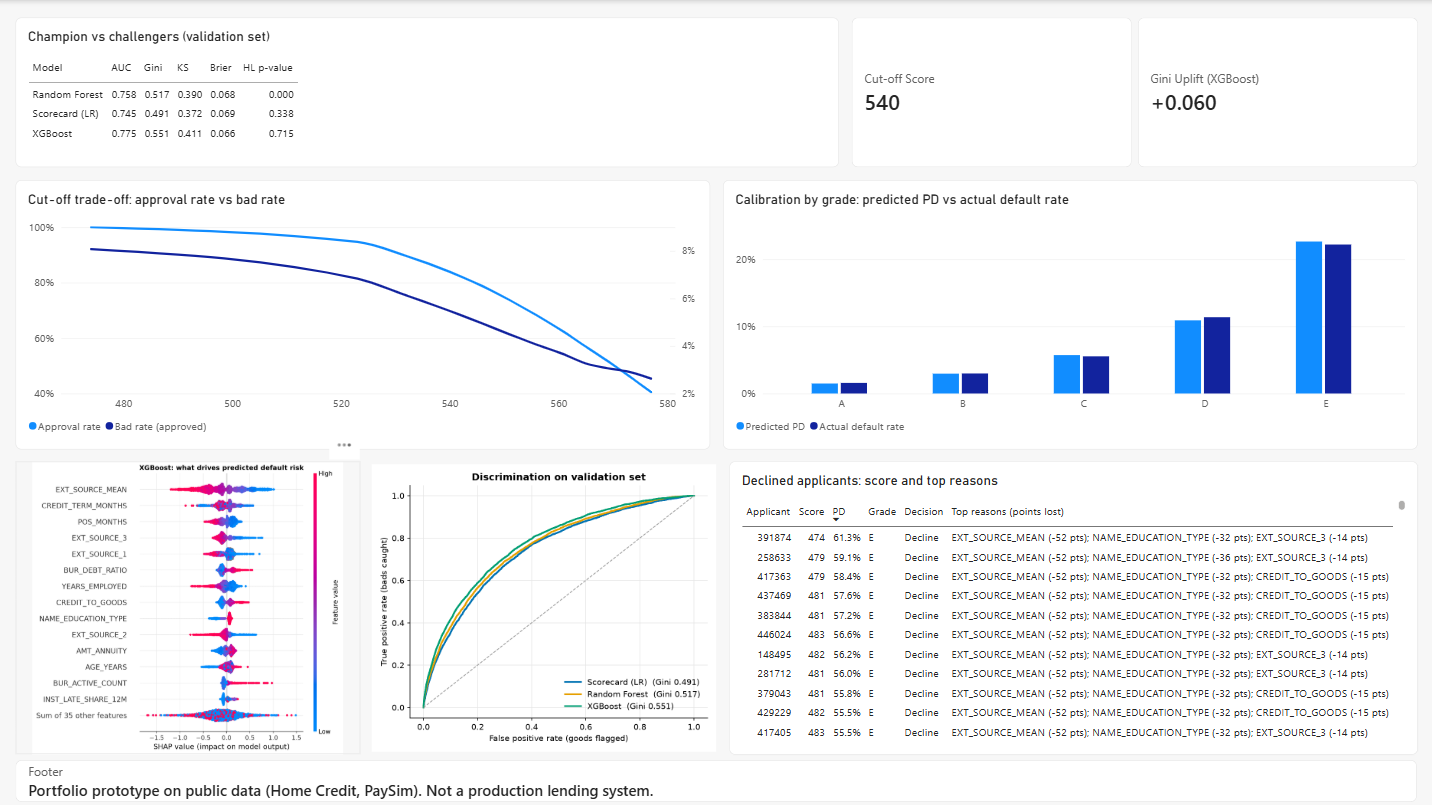

Layout of this report page (visuals, bound fields, positions):
{"tool":"powerbi","page":{"name":"Credit model performance","canvas":[1920,1080],"ordinal":1},"visuals":[{"type":"tableEx","title":"Champion vs challengers (validation set)","fields":{"Values":["model_comparison.model","Sum(model_comparison.AUC)","Sum(model_comparison.Gini)","Sum(model_comparison.KS)","Sum(model_comparison.Brier)","Sum(model_comparison.HL_pvalue)"]},"box":[24,24,1100,200],"z":0},{"type":"lineChart","title":"Cut-off trade-off: approval rate vs bad rate","fields":{"Category":["cutoff_strategy.cutoff_score"],"Y":["Sum(cutoff_strategy.approval_rate)"],"Y2":["Sum(cutoff_strategy.bad_rate_approved)"]},"box":[24,240,928,360],"z":1},{"type":"cardVisual","fields":{"Data":["_Measures.Cut-off Score","_Measures.Gini Uplift (XGBoost)"]},"box":[1140,24,756,200],"z":2},{"type":"clusteredColumnChart","title":"Calibration by grade: predicted PD vs actual default rate","fields":{"Category":["risk_grades.grade"],"Y":["Sum(risk_grades.predicted_PD)","Sum(risk_grades.actual_DR)"]},"box":[968,240,928,360],"z":3},{"type":"image","box":[24,616,460,392],"z":4},{"type":"tableEx","title":"Declined applicants: score and top reasons","fields":{"Values":["fact_applications.SK_ID_CURR","fact_applications.score","fact_applications.pd_scorecard","fact_applications.grade","fact_applications.decision","fact_applications.reason_codes"]},"box":[976,616,920,392],"z":6},{"type":"image","box":[500,616,460,392],"z":7},{"type":"cardVisual","fields":{"Data":["_Measures.Footer"]},"box":[24,1016,1872,56],"z":8}]}

Visuals, with their boxes in screenshot pixels (x1, y1, x2, y2), scaled from the page's 1920x1080 canvas onto the 1432x805 screenshot:
"Champion vs challengers (validation set)" tableEx: 18,18,838,167
"Cut-off trade-off: approval rate vs bad rate" lineChart: 18,179,710,447
cardVisual - _Measures.Cut-off Score x _Measures.Gini Uplift (XGBoost): 850,18,1414,167
"Calibration by grade: predicted PD vs actual default rate" clusteredColumnChart: 722,179,1414,447
image: 18,459,361,751
"Declined applicants: score and top reasons" tableEx: 728,459,1414,751
image: 373,459,716,751
cardVisual - _Measures.Footer: 18,757,1414,799
